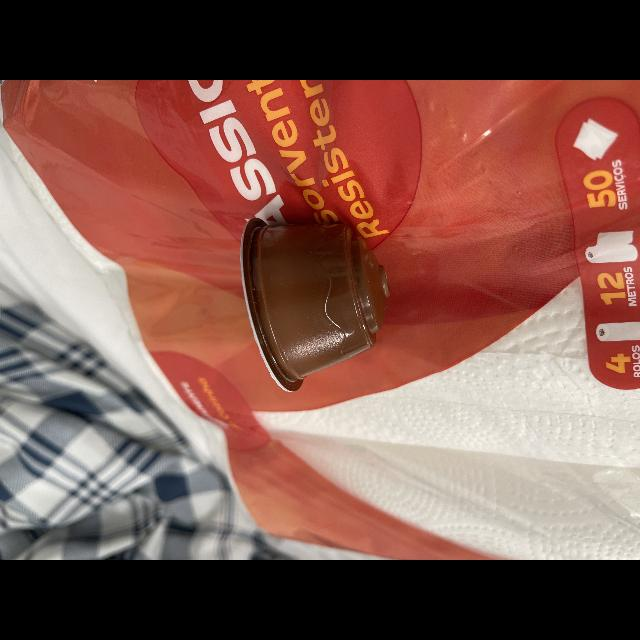intact_capsule: (224, 205, 408, 405)
